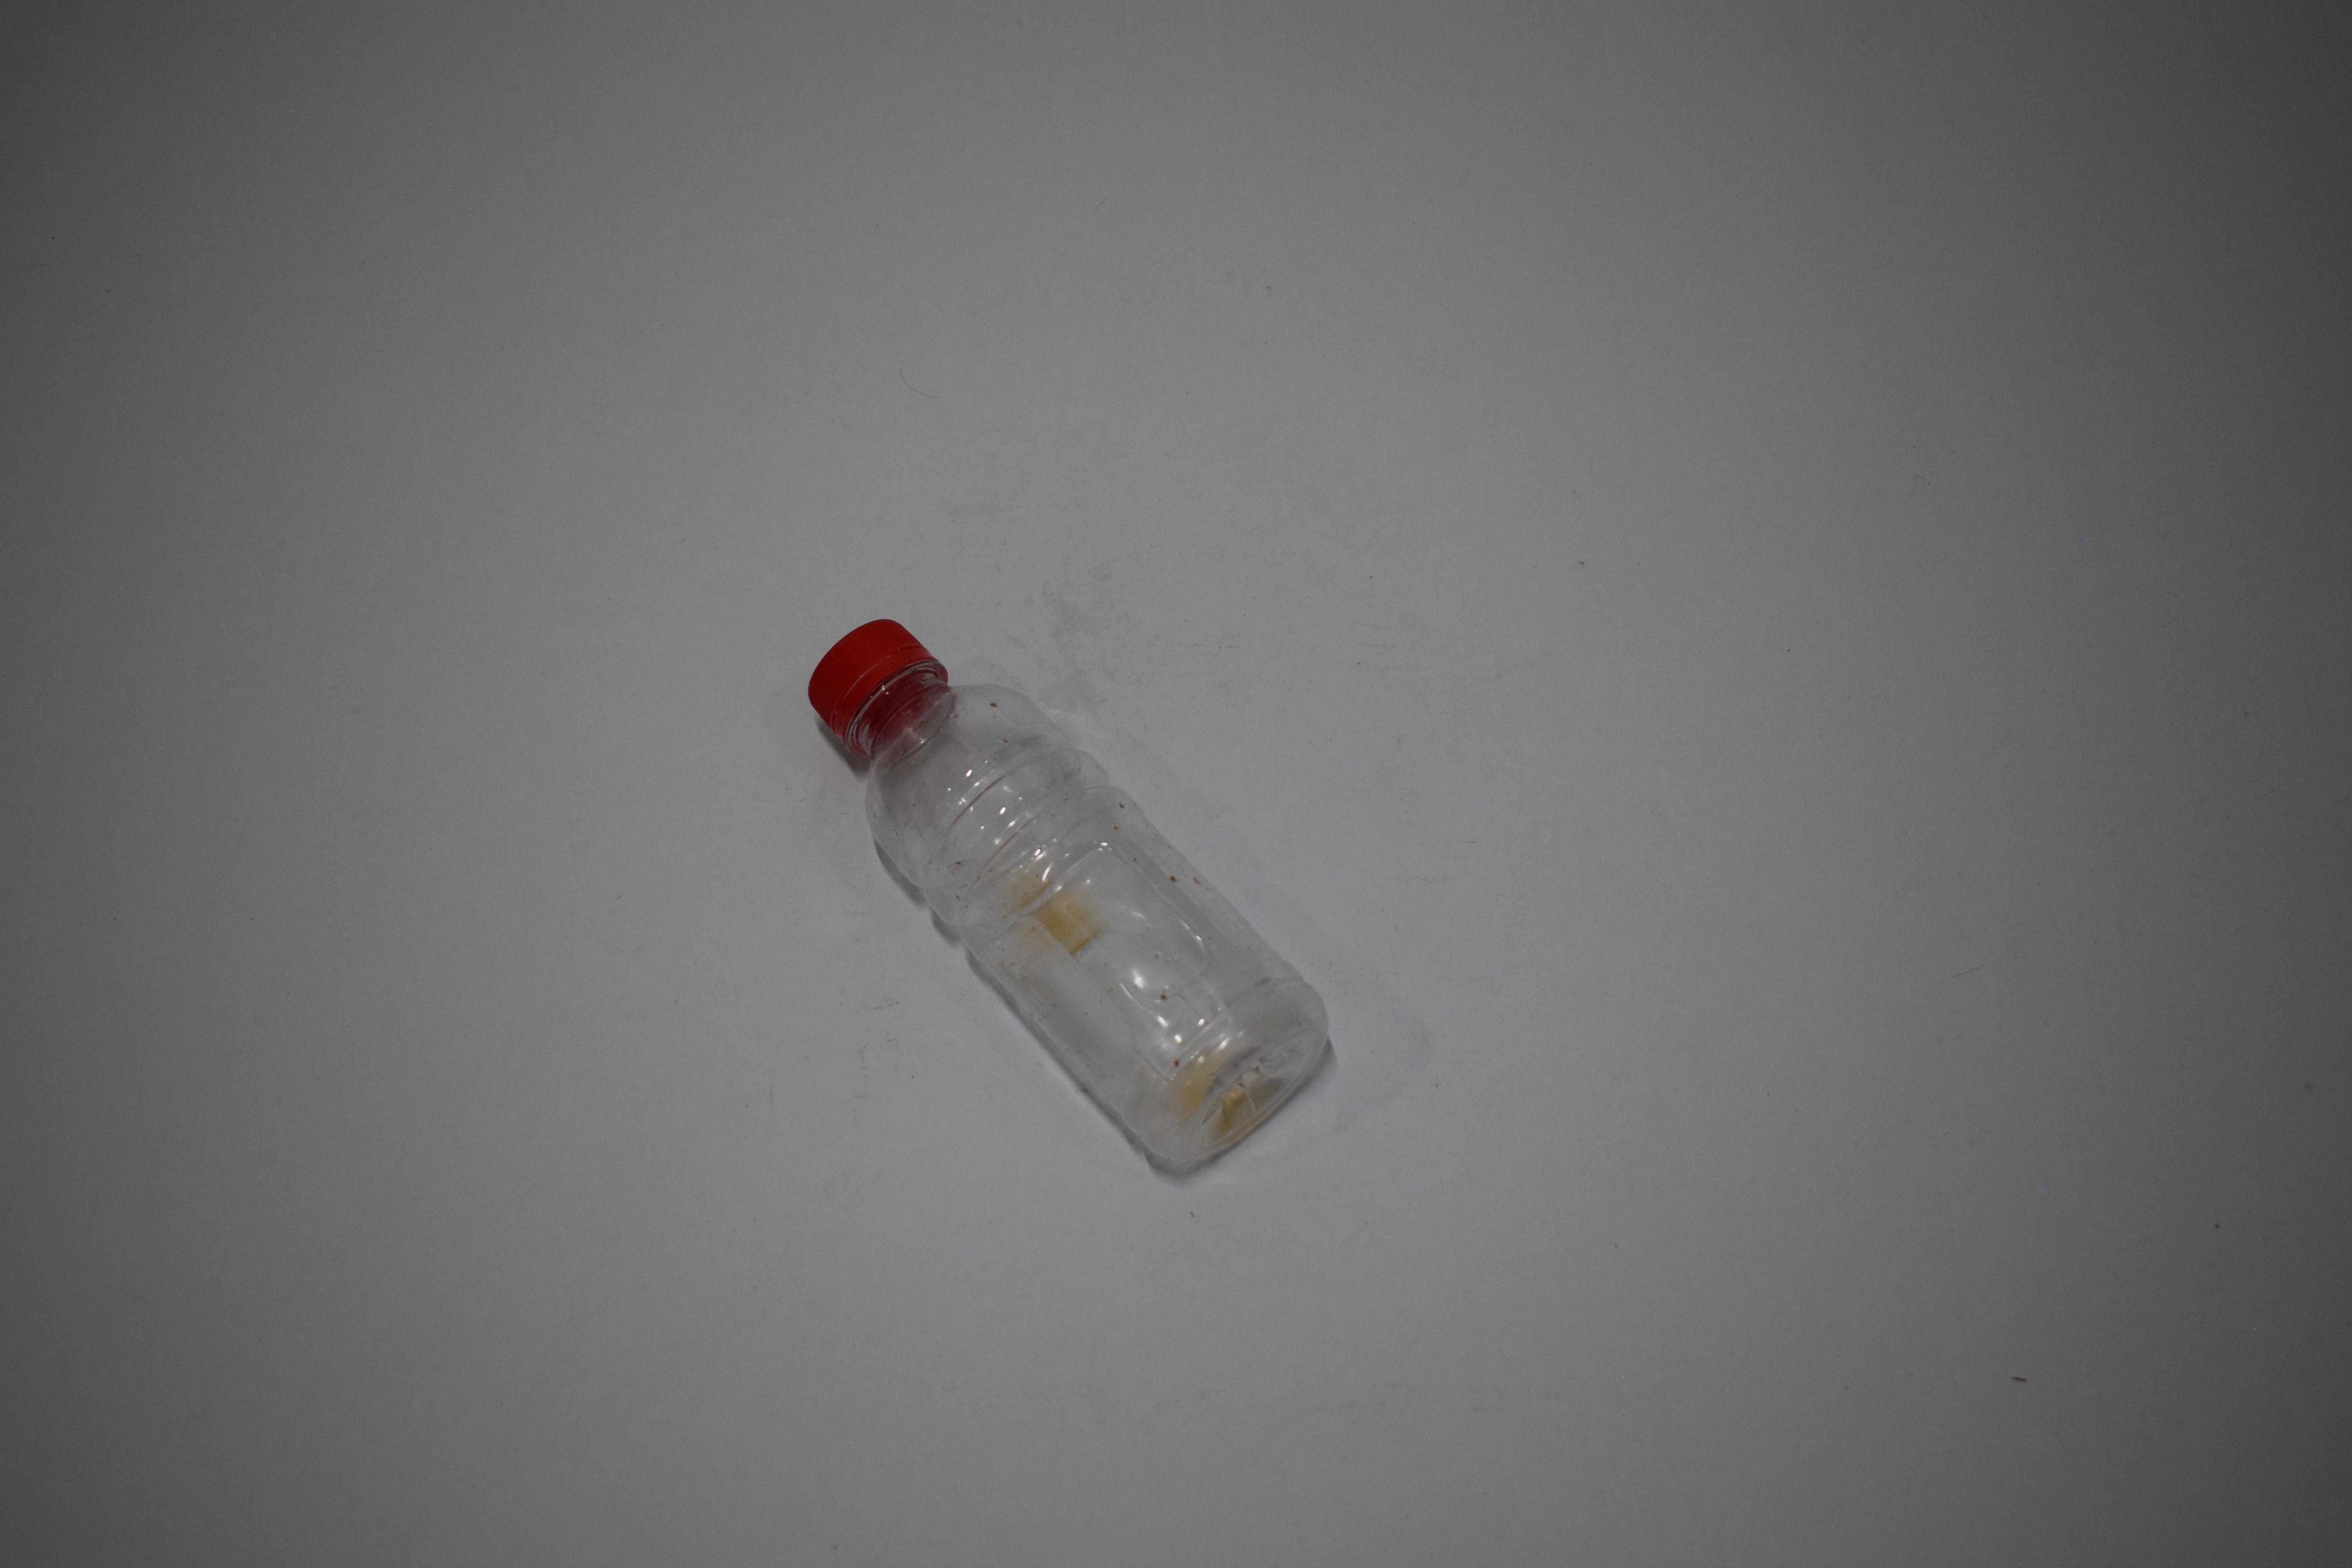bottle: (691, 0, 1209, 392)
